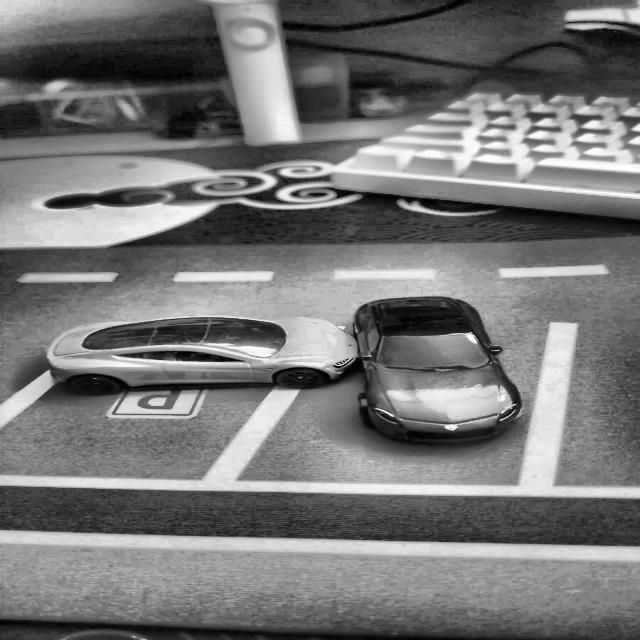car: (45, 314, 358, 395), (351, 296, 522, 444)
